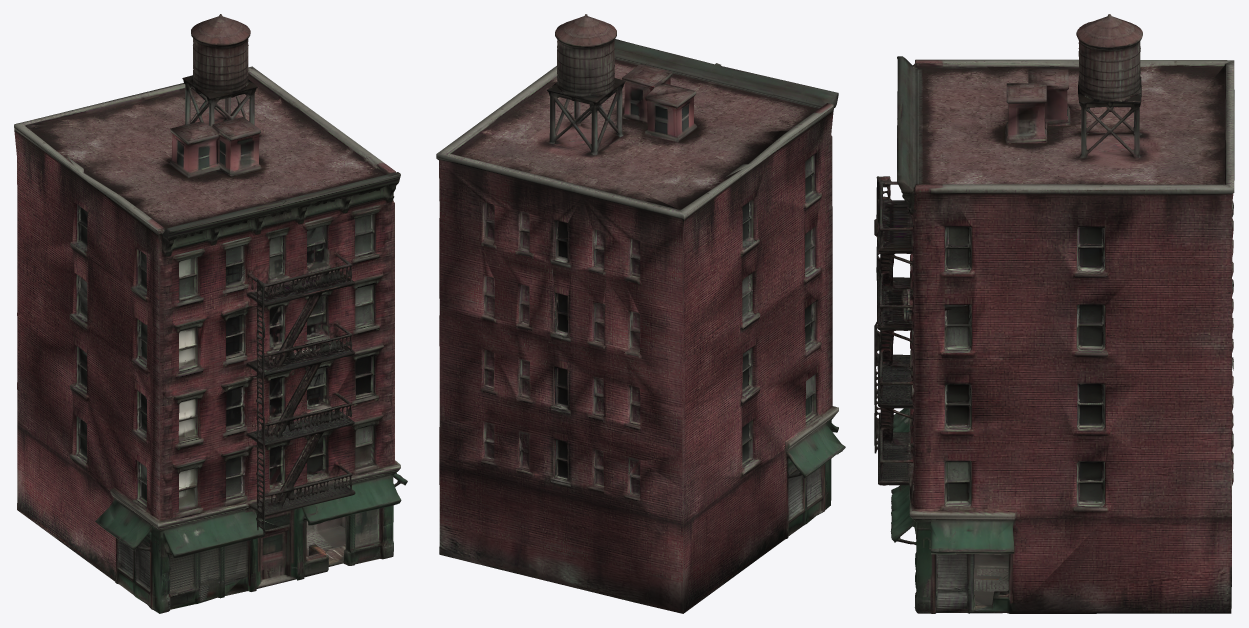
File: building-apartment.glb
3 renders of one model, left to right at view 1: azimuth 30°, elevation 25°; view 2: azimuth 150°, elevation 25°; view 3: azimuth 270°, elevation 25°, orthographic. The views are drawn at different scales.
Visible parts, largest first — view 1: Mesh_0; view 2: Mesh_0; view 3: Mesh_0.
Part boxes in pixels (x1=…): Mesh_0: x1=14, y1=14, x2=407, y2=613; Mesh_0: x1=436, y1=14, x2=845, y2=613; Mesh_0: x1=874, y1=14, x2=1234, y2=613.
Bounding box in the file's own units: 1.1 × 1.9 × 1.12.
Materials: 1 (1 with a texture image).
